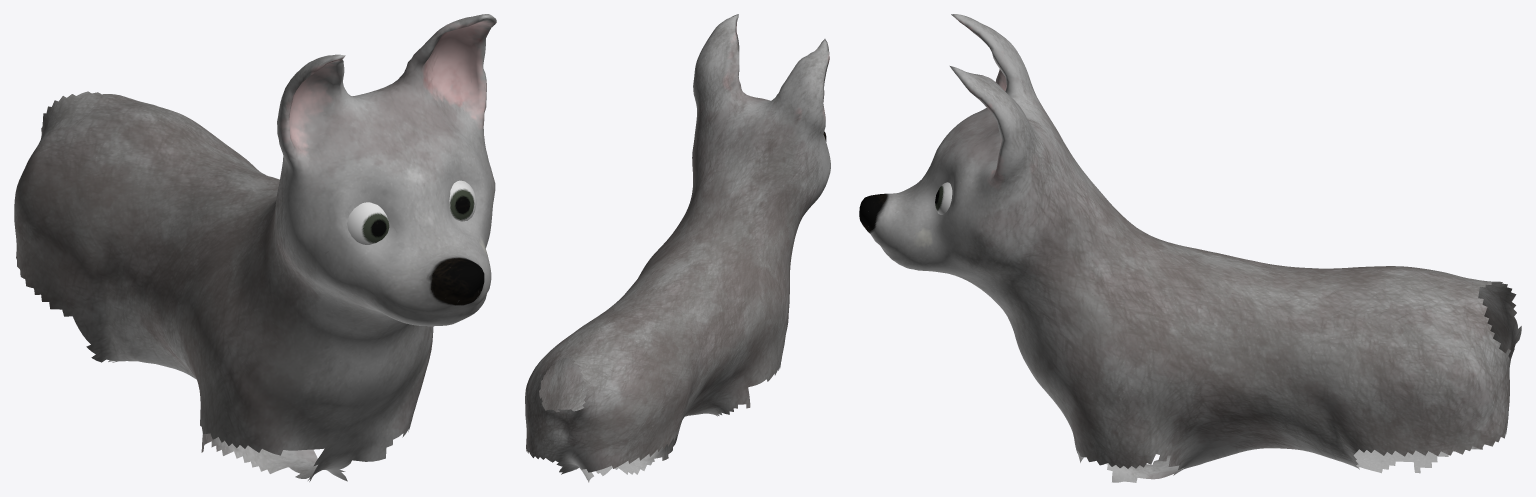
Rendered from cuerpo.obj.
3 views of the same model, side by side, from view 1: azimuth 30°, elevation 25°; view 2: azimuth 150°, elevation 25°; view 3: azimuth 270°, elevation 25° (orthographic). The views are drawn at different scales.
Visible parts, largest first — view 1: Doguinho_low_poly; view 2: Doguinho_low_poly; view 3: Doguinho_low_poly.
Boxes of the visible parts, bbox=[...] form: Doguinho_low_poly: bbox=[14, 14, 496, 481]; Doguinho_low_poly: bbox=[525, 14, 830, 482]; Doguinho_low_poly: bbox=[859, 14, 1521, 482].
Bounding box in the file's own units: 2.74 × 6.5 × 9.01.
1 material, 1 textured.
